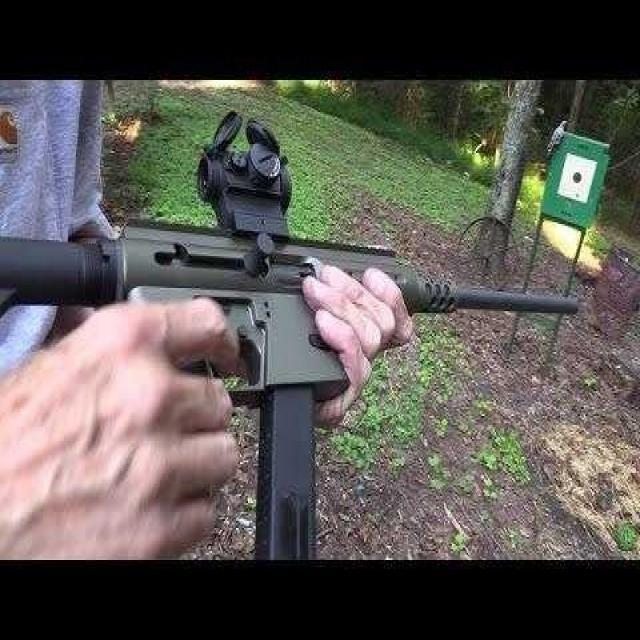weapon: (0, 183, 611, 606)
